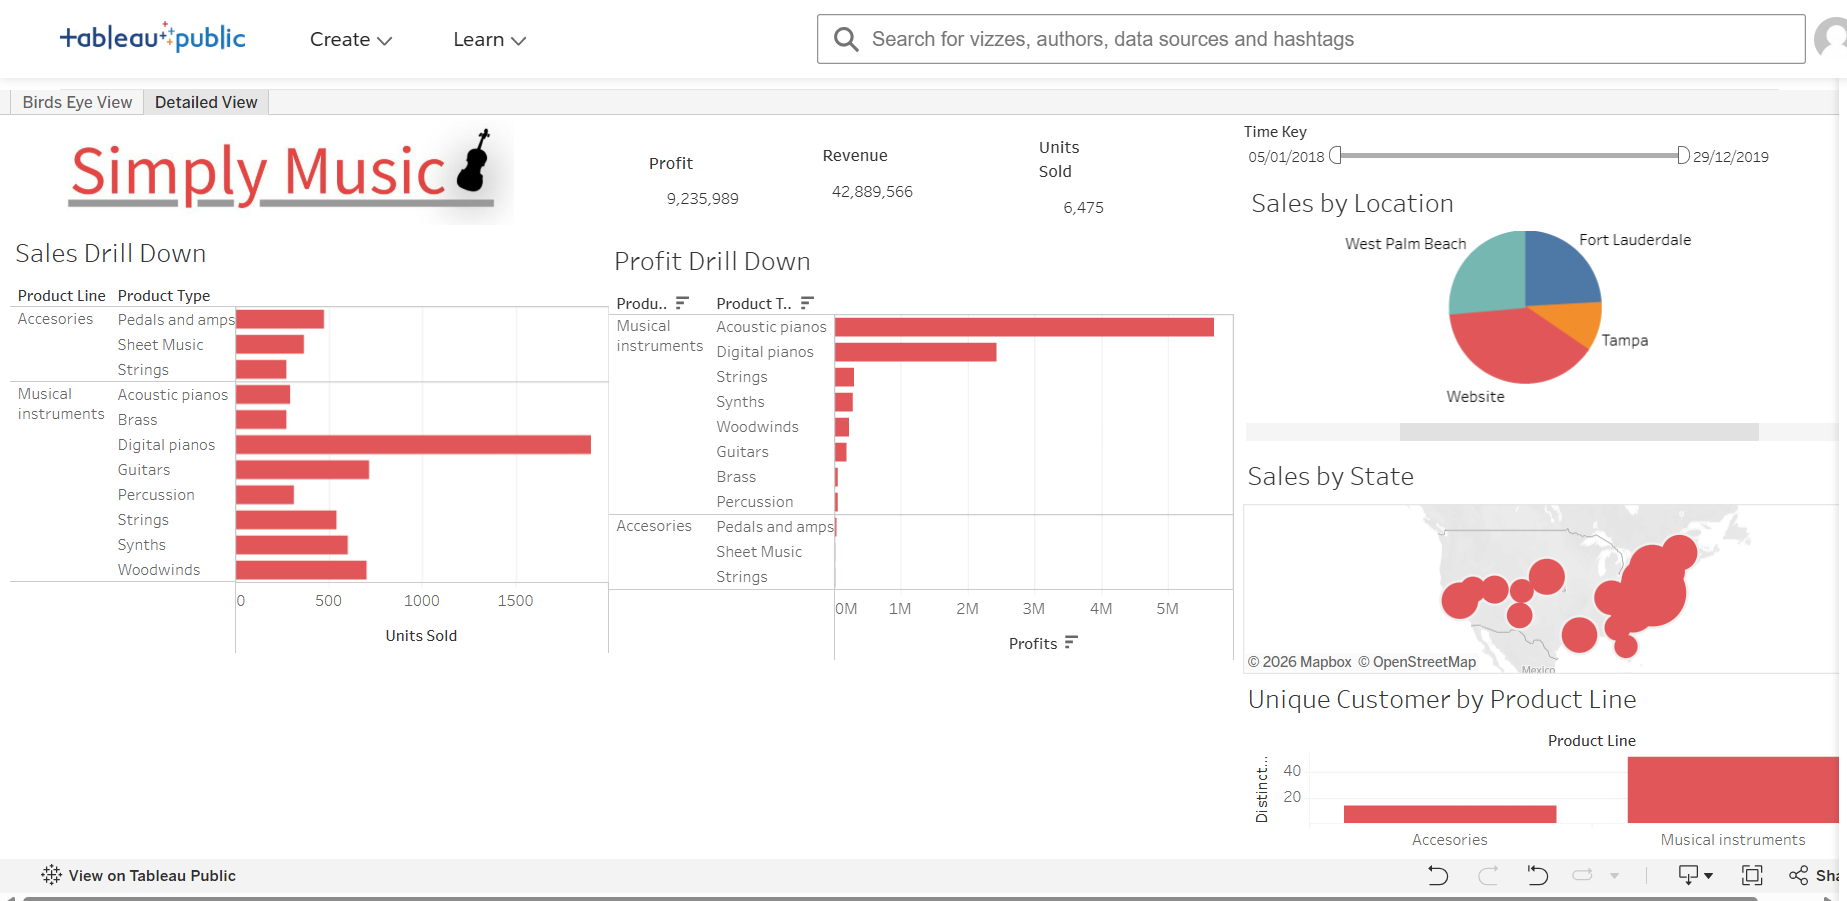

What the dashboard file says about the page in this screenshot:
{"tool":"tableau","page":{"name":"Detailed View","canvas":[1000,1000],"units":"permille","ordinal":1},"visuals":[{"type":"filter","title":"Profit Drill Down","param":"[federated.0zh7d361hhnbup1bhzdns0knb5b7].[none:TIME_KEY:qk]","box":[654.6,2.7,278.9,72.3]},{"type":"image","param":"Image/Simple Music logo.jpg","box":[32.2,4,345.4,141.9]},{"type":"worksheet","title":"unit sold","mark":"Automatic","box":[544.1,13.4,149.3,140.6]},{"type":"worksheet","title":"Revenue","mark":"Automatic","box":[430.3,24.1,88.2,103.1]},{"type":"worksheet","title":"Profit","mark":"Automatic","box":[338.8,33.5,108.5,121.8]},{"type":"worksheet","title":"Sales by Location","mark":"Pie","box":[655.9,80.3,340.1,357.4]},{"type":"worksheet","title":"Sales by State","mark":"Automatic","box":[654,449.8,332.9,301.2]},{"type":"worksheet","title":"Unique Customer by Product Line","mark":"Automatic","rows":["CUSTOMER_KEY"],"cols":["PRODUCT_LINE"],"box":[654,751,332.9,238.3]}]}

Visuals, with their boxes on the dashboard's canvas, which has no fixed pixel size, in thousandths of its width and height (x1, y1, x2, y2). These are canvas units, not pixel positions in the 1847x901 screenshot, which may show the page scaled, cropped or inside an application window:
"Profit Drill Down" filter: x1=655, y1=3, x2=934, y2=75
image: x1=32, y1=4, x2=378, y2=146
"unit sold" worksheet: x1=544, y1=13, x2=693, y2=154
"Revenue" worksheet: x1=430, y1=24, x2=518, y2=127
"Profit" worksheet: x1=339, y1=34, x2=447, y2=155
"Sales by Location" worksheet (Pie marks): x1=656, y1=80, x2=996, y2=438
"Sales by State" worksheet: x1=654, y1=450, x2=987, y2=751
"Unique Customer by Product Line" worksheet: x1=654, y1=751, x2=987, y2=989
